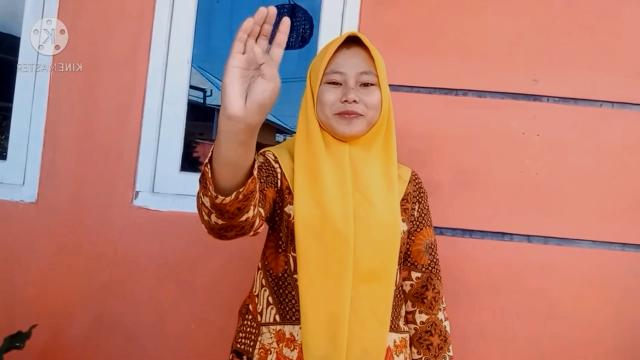B: (219, 5, 291, 124)
